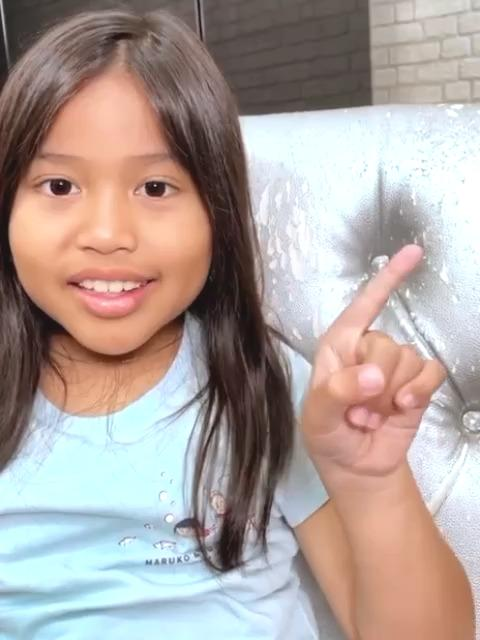Z: (296, 240, 448, 476)
